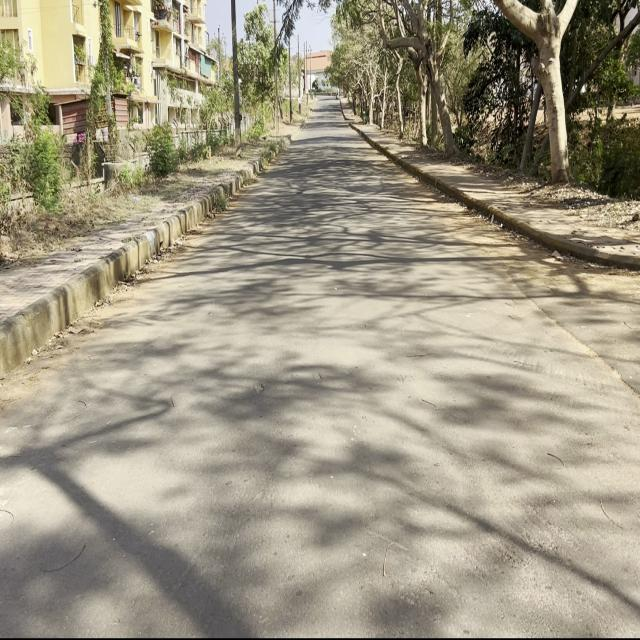Road: (3, 103, 638, 632)
